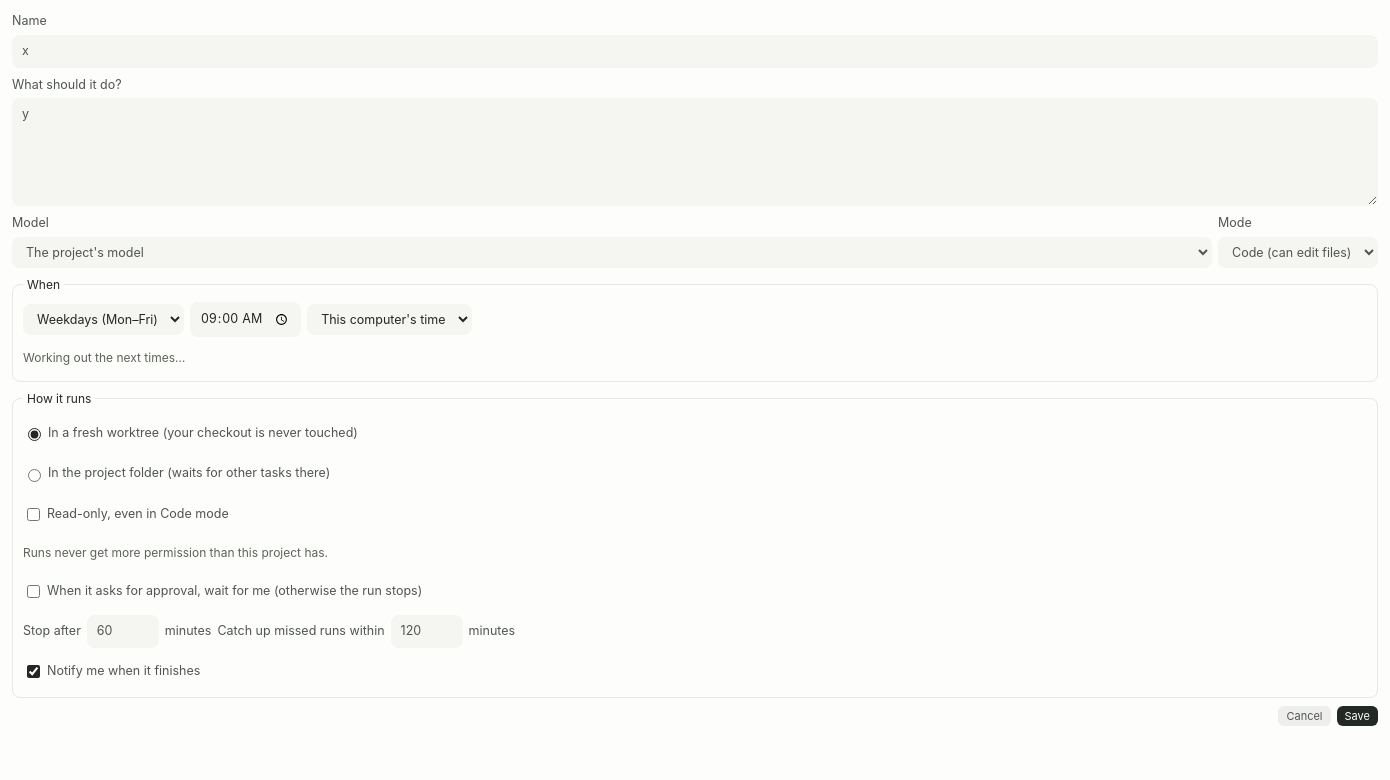
Test case: explains an invalid cron expression and will not save it
Select "Custom (cron)" in the dropdown named "Repeat": (104,319) 23,304 -> 184,335
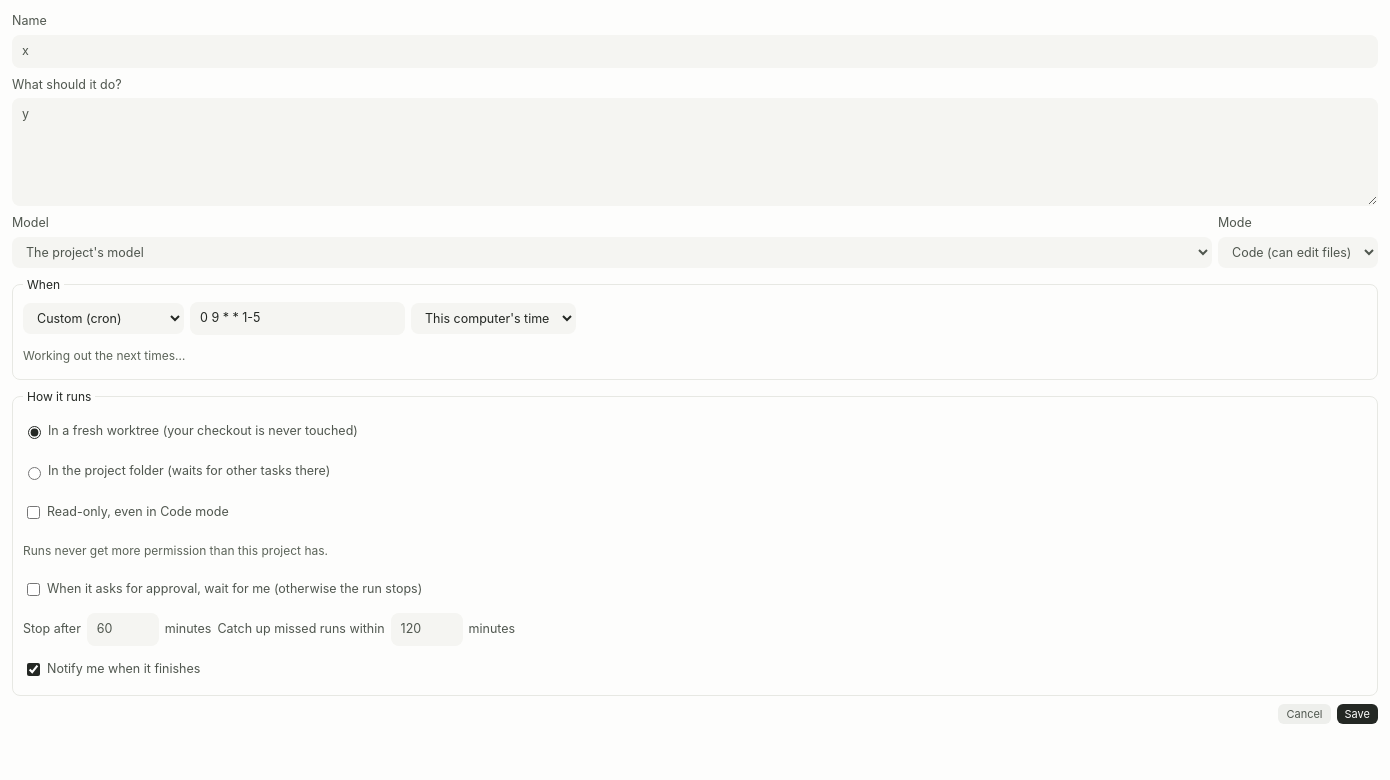
Replace the text in the field named "Cron expression" with "nope": (298,318) 190,302 -> 405,335
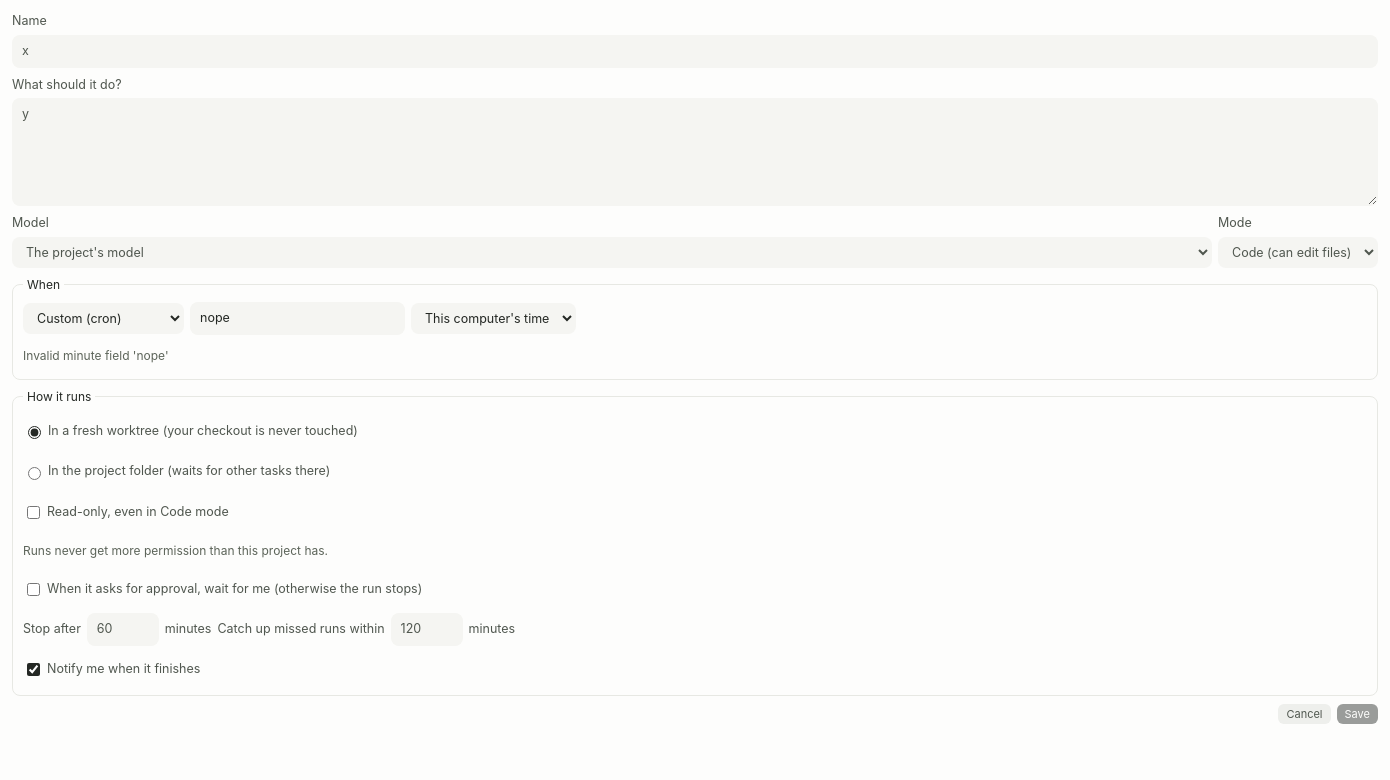
expect the message shows "Invalid minute field": met, box 23,348 -> 168,362
